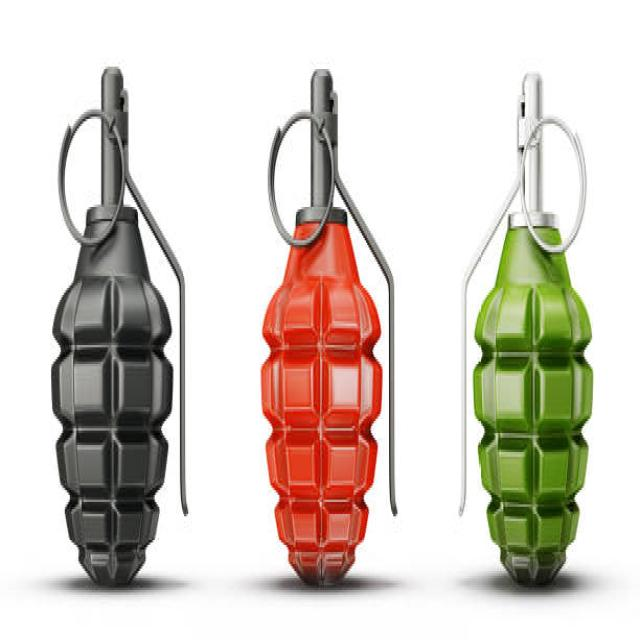grenade: (47, 50, 194, 601)
